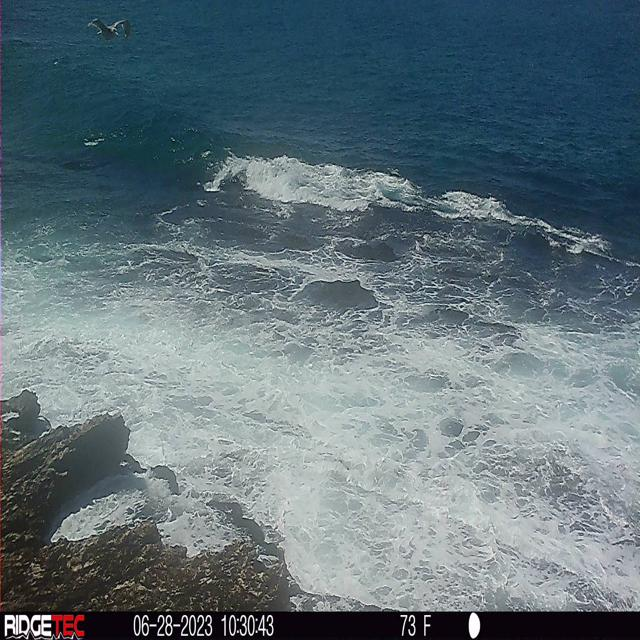bird: (87, 17, 131, 43)
